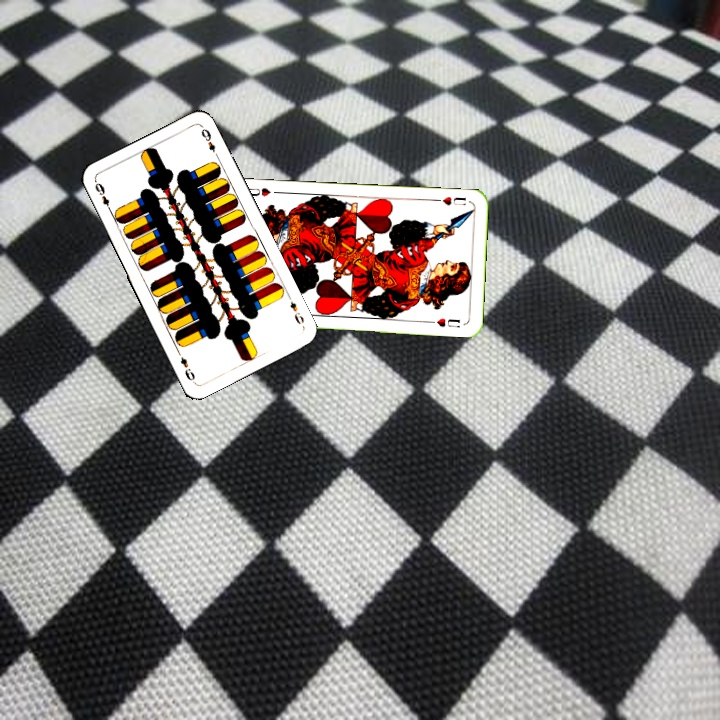E9: (91, 177, 115, 215), (286, 297, 307, 327)
HU: (432, 192, 469, 208)
